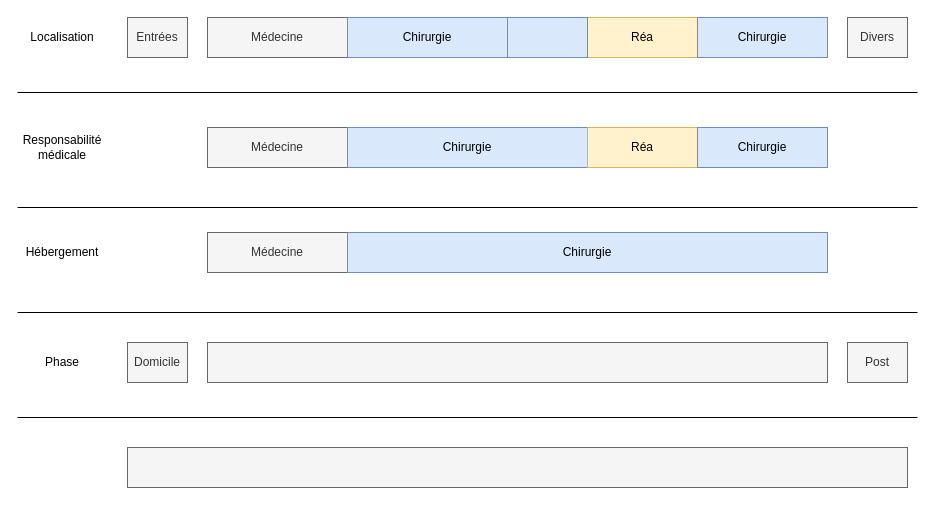
Some shapes in this 936 by 505 pixel diagram are drawn without their labels. Here are the shapes that lost their labels. From the top down, the centre of each, then its label:
At [547,37]: "Bloc".
At [517,362]: "Séjour hospitalier".
At [517,467]: "Épisode de soin".
